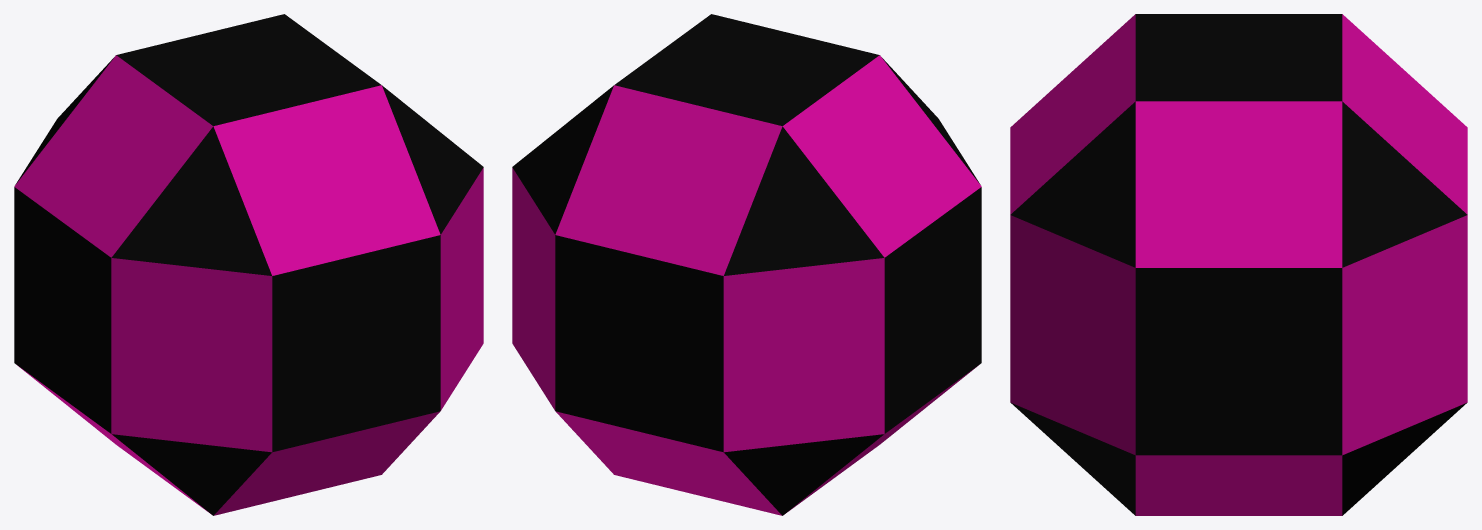
The model's file is center.glb.
The picture shows the model from 3 angles, left to right: view 1: azimuth 30°, elevation 25°; view 2: azimuth 150°, elevation 25°; view 3: azimuth 270°, elevation 25°; orthographic projection. The views are drawn at different scales.
Parts seen in each view (by area): view 1: Plane.002; view 2: Plane.002; view 3: Plane.002.
Part boxes in pixels (x1,y1,x2,y2): Plane.002: [14, 14, 483, 515]; Plane.002: [512, 14, 981, 515]; Plane.002: [1010, 14, 1467, 515].
Size of the model in its own units: 8.91 by 8.91 by 8.91.
